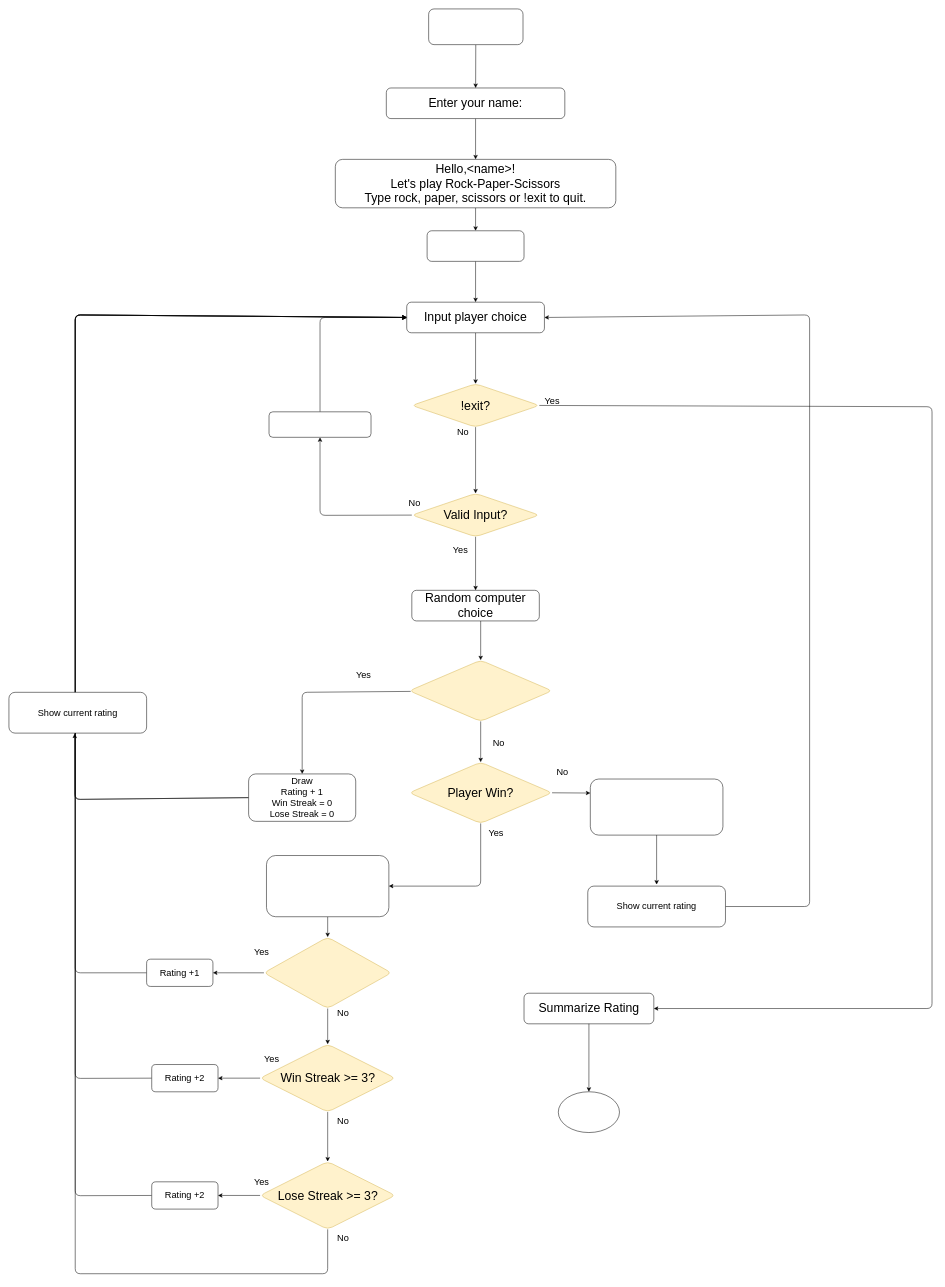
This 945x1287 diagram has some shape labels left out. The centre of each missing label's shape, as x and y in pixels:
End: point 588,1112
Invalid input!: point 320,424
player == computer?: point 480,690
Set rating = 0: point 475,245
start: point 475,26
Win Streak == 2?: point 327,973
You Lose Rating +0 Win Streak = 0 Lose Streak +1: point 656,807
You Win! Win Streak +1 Rating +3 Lose Streak = 0: point 327,886
